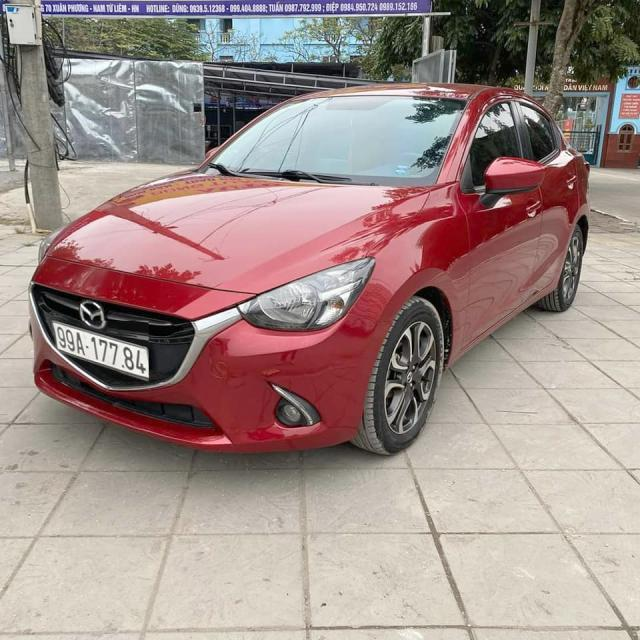car: (12, 77, 605, 462)
plate: (54, 320, 151, 381)
